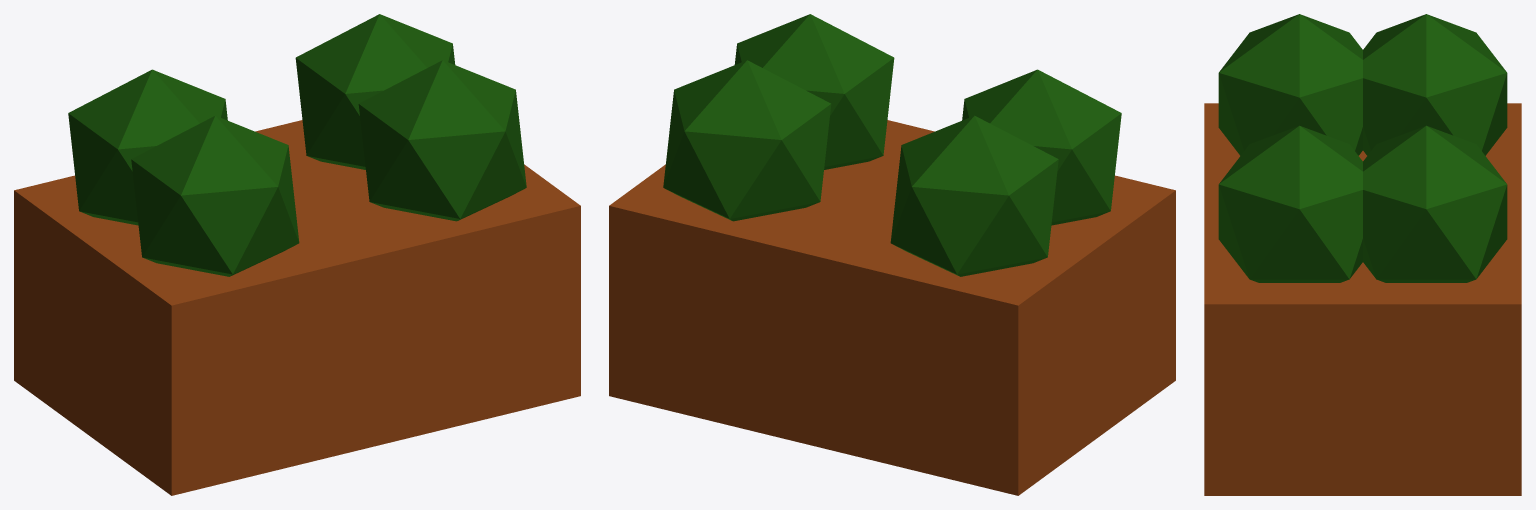
Rendered from crate_herbs.obj.
3 views of the same model, side by side, from view 1: azimuth 30°, elevation 25°; view 2: azimuth 150°, elevation 25°; view 3: azimuth 270°, elevation 25° (orthographic).
Visible parts, largest first — view 1: crate_herbs; view 2: crate_herbs; view 3: crate_herbs.
Part boxes in pixels (x1,y1,x2,y2): crate_herbs: (14, 14, 580, 495); crate_herbs: (609, 14, 1175, 495); crate_herbs: (1204, 14, 1521, 495).
Size of the model in its own units: 0.9 by 0.68 by 0.6.
